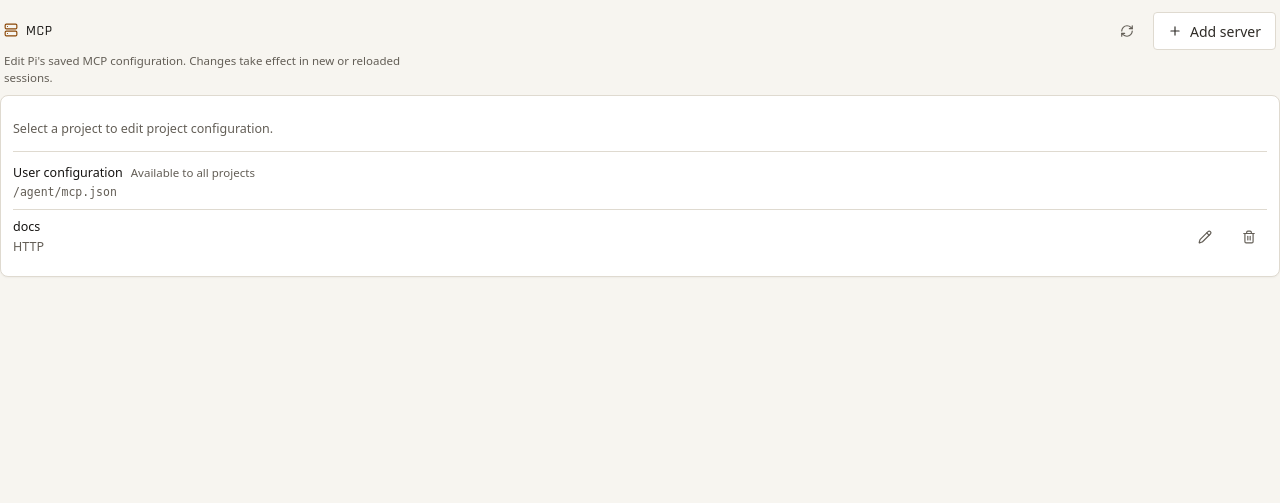
it: keeps user configuration editable with an unselected project
This screenshot has width=1280, height=503.
Expected: the button named "Edit user server docs" is shown, [1187,219,1223,255]
Expected: the text "Select a project to edit project configuration." is shown, [13,120,273,137]
Click the button "Add server": click(1214, 31) [1153,12,1276,50]
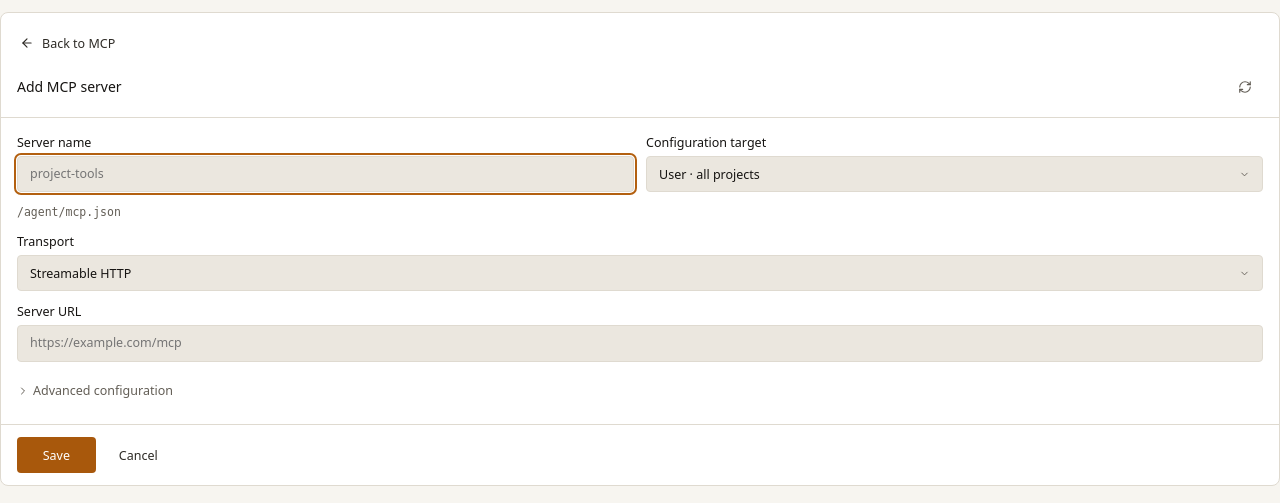
Click the dropdown named "Configuration target": click(709, 175) [646,156,1263,192]
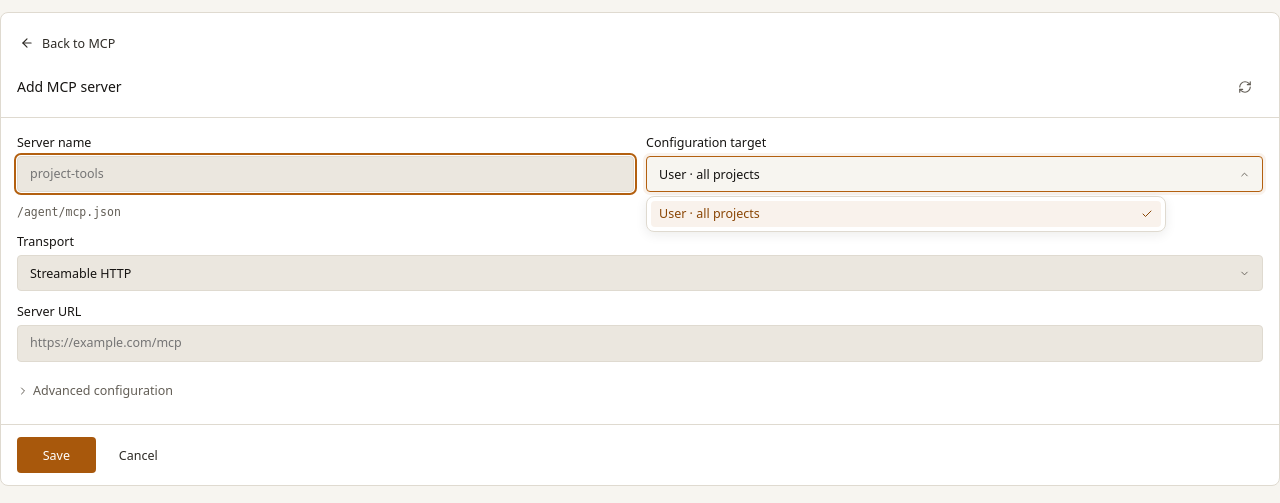
Expected: the option "User · all projects" is shown
Click the option "User · all projects": click(709, 214) [651,201,1161,227]
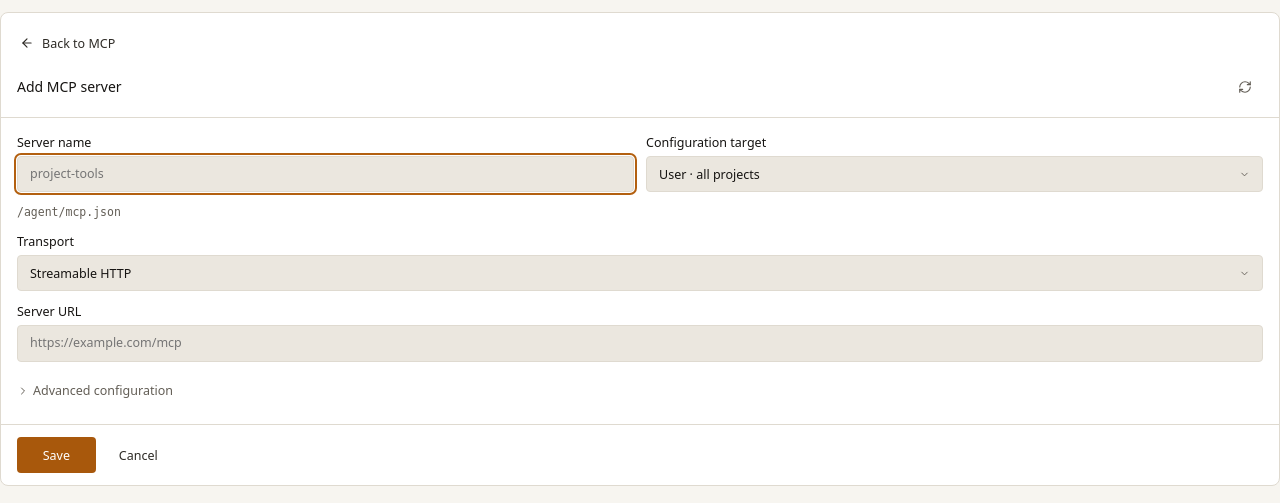
In the field labelled "Server name": (326, 174) [17,156,634,192], type "independent"
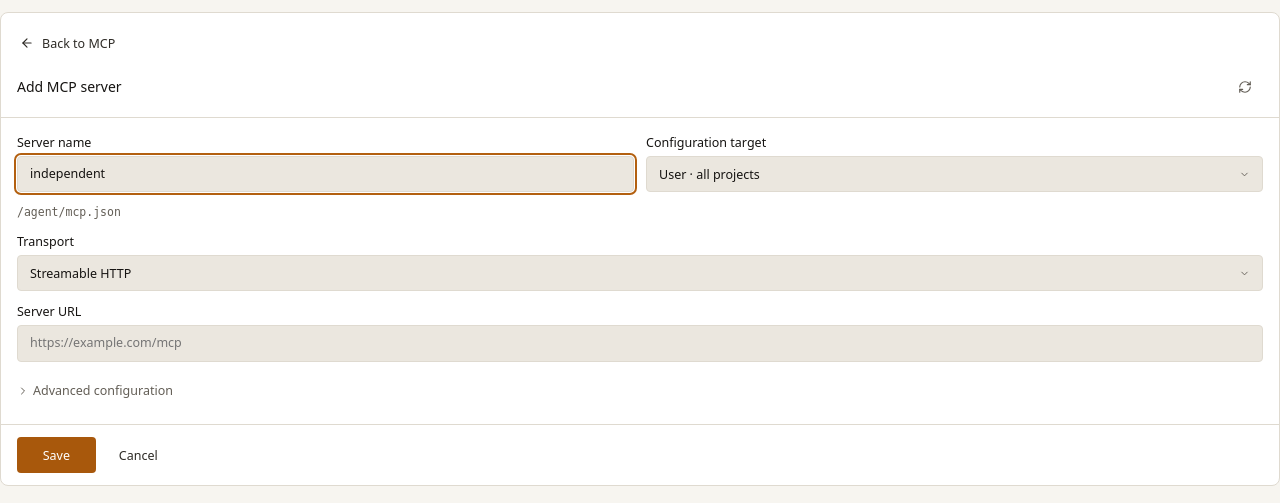
In the field labelled "Server URL": (640, 343) [17,325,1263,362], type "https://example.invalid/mcp"
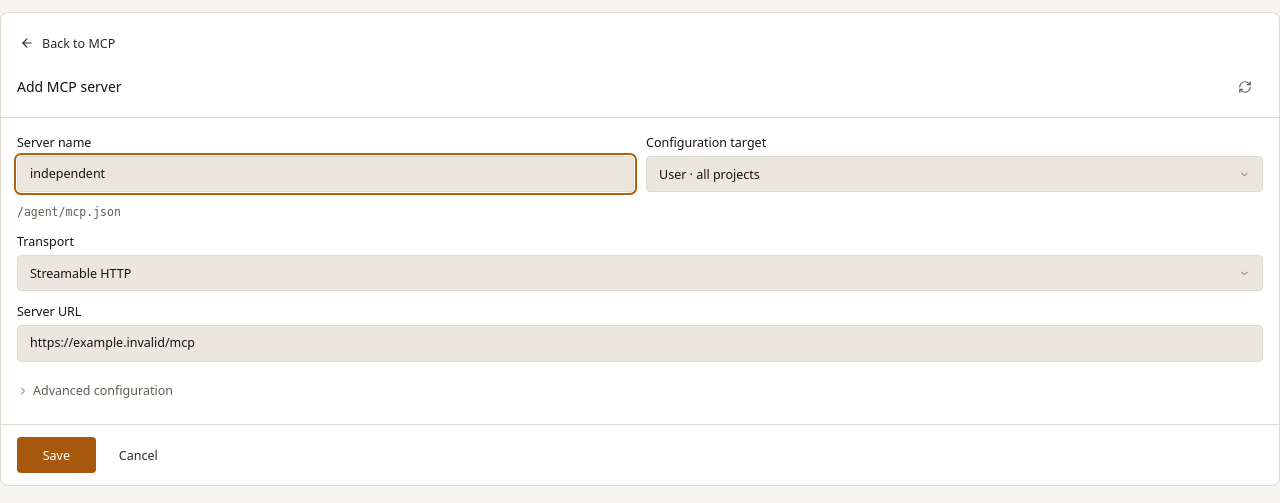
Expected: the button "Save" is enabled, [17,437,96,473]
Submit the form
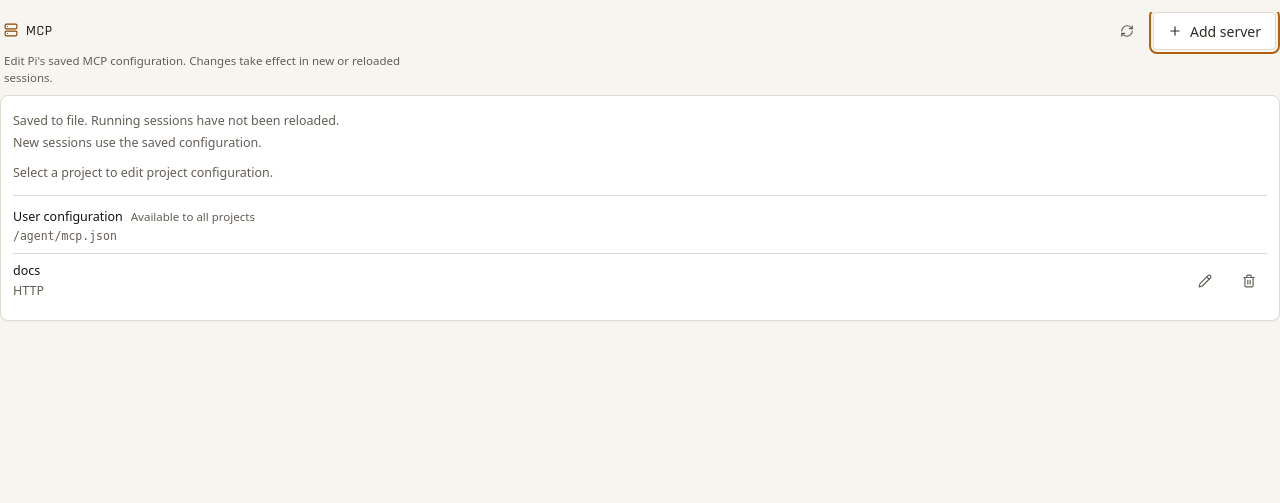
Expected: the text "Saved to file. Running sessions have not been reloaded." is shown, [13,112,339,129]
